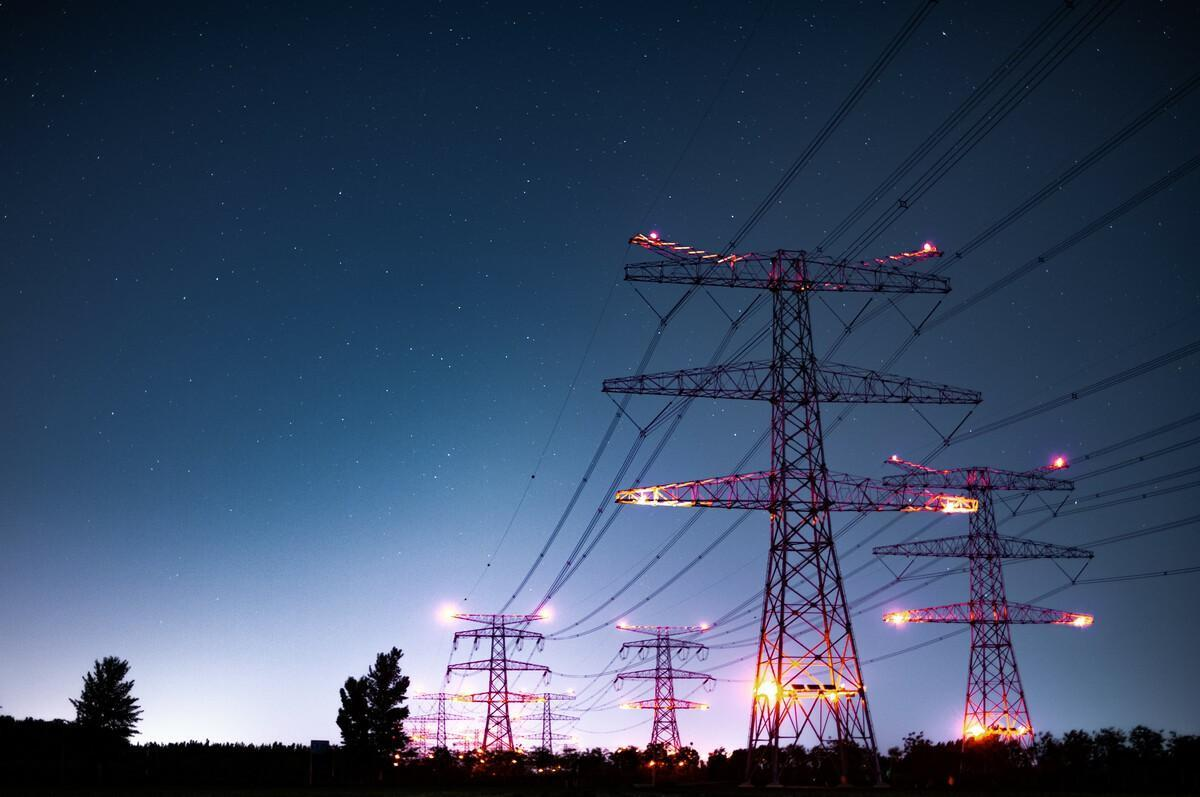power_tower: (617, 232, 982, 757), (878, 449, 1093, 734), (608, 603, 736, 768), (449, 603, 563, 780), (524, 683, 587, 773), (409, 683, 467, 768)
